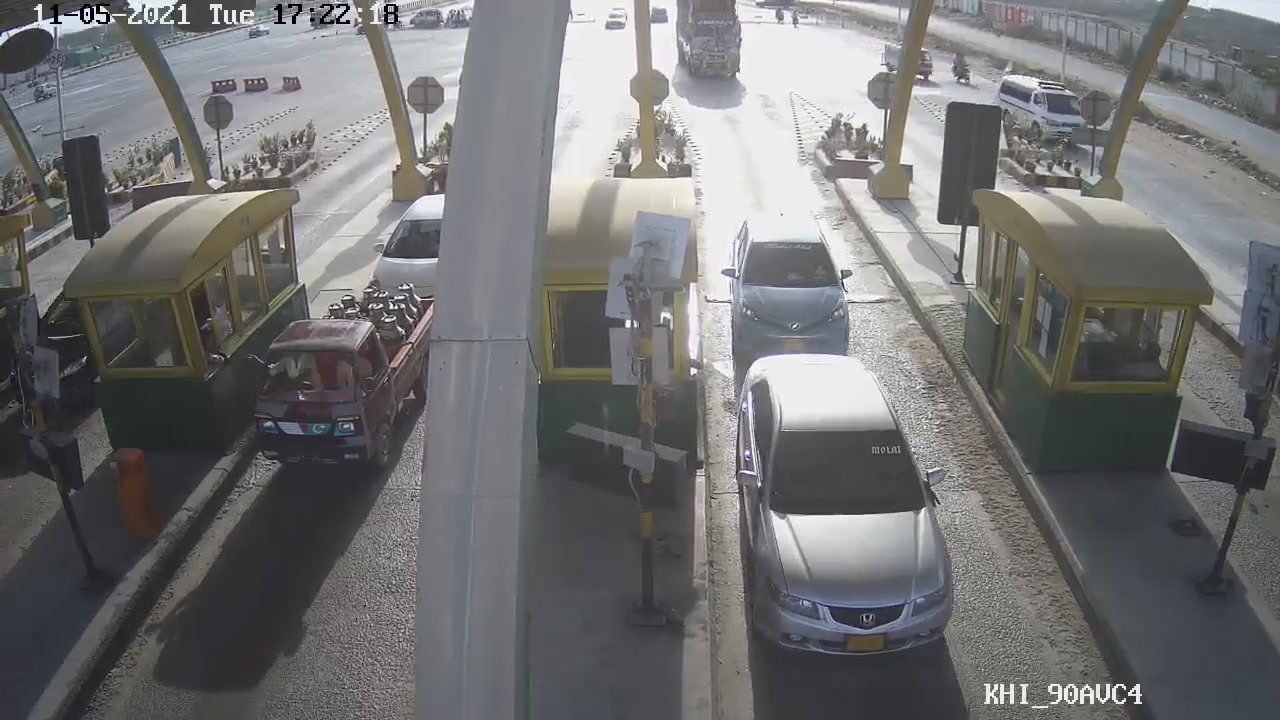F1: (722, 357, 963, 660)
